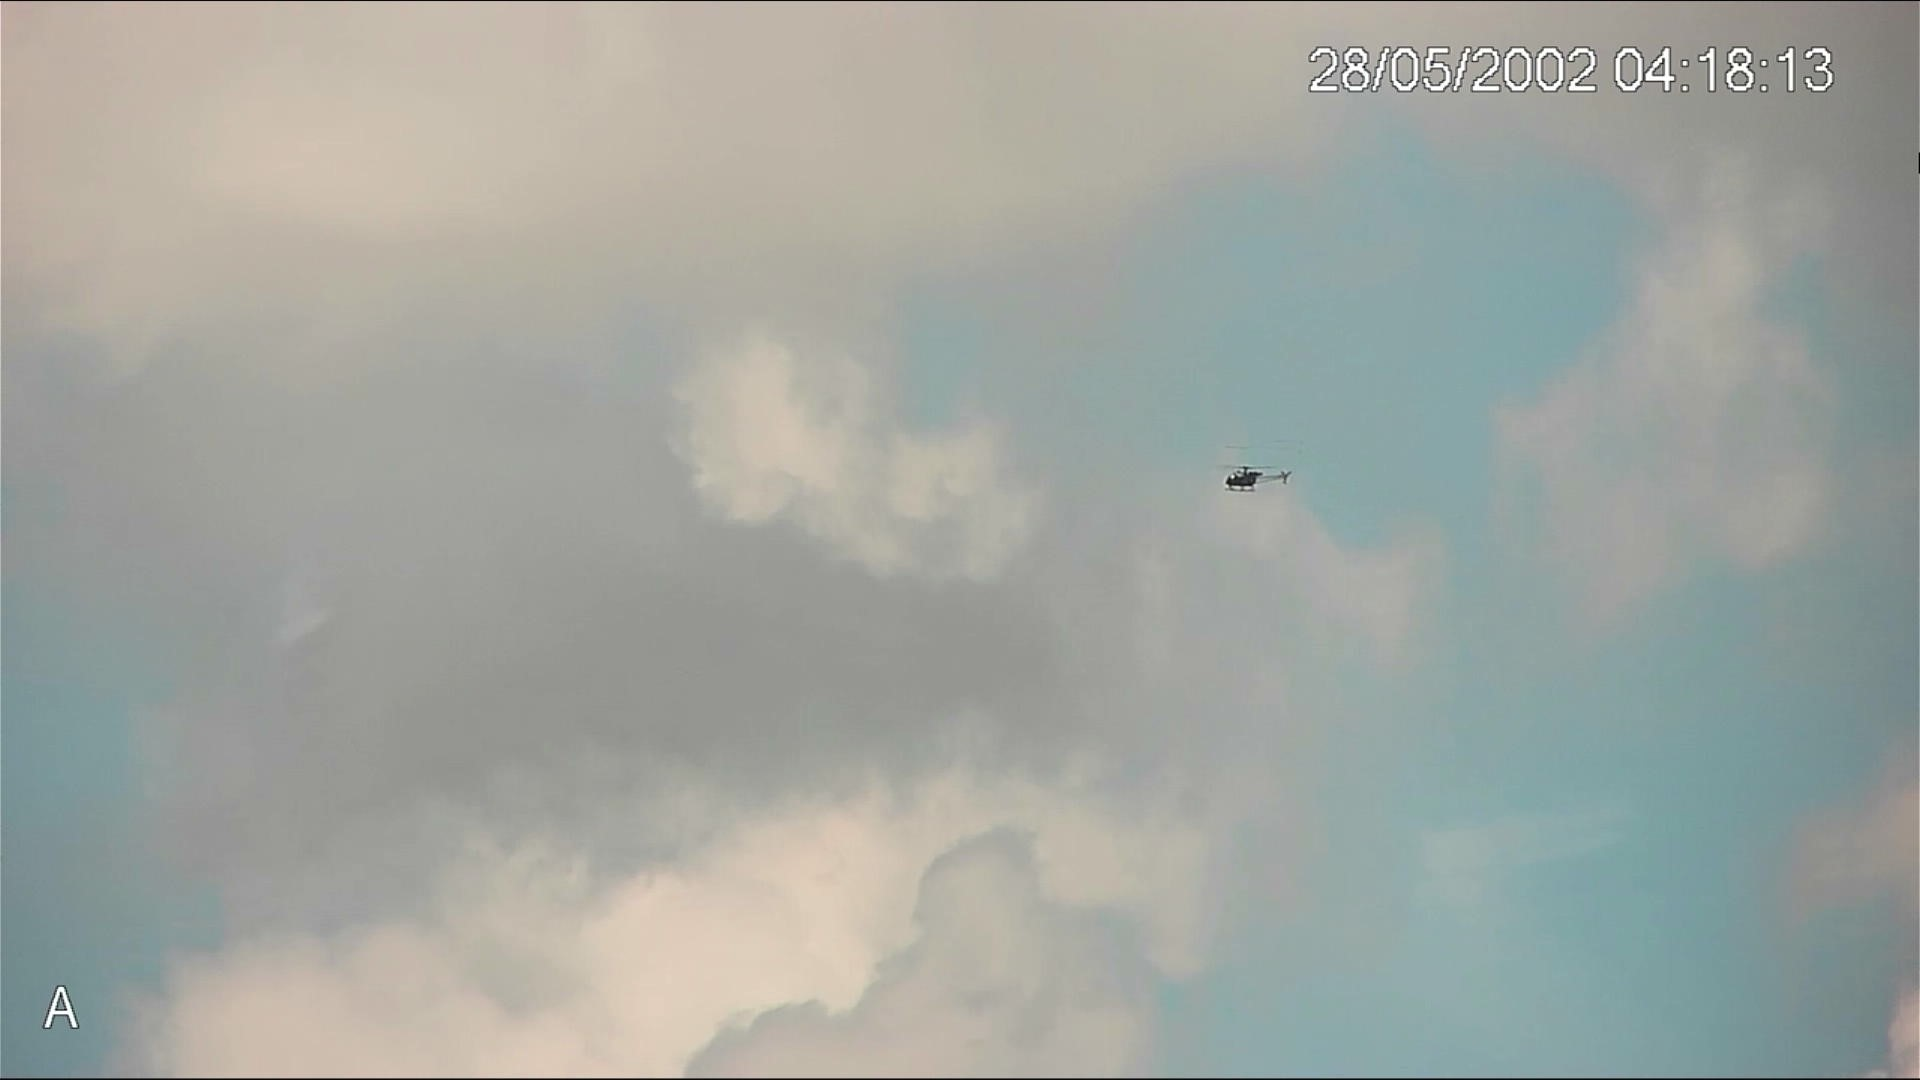SU_30: (1221, 463, 1294, 495)
